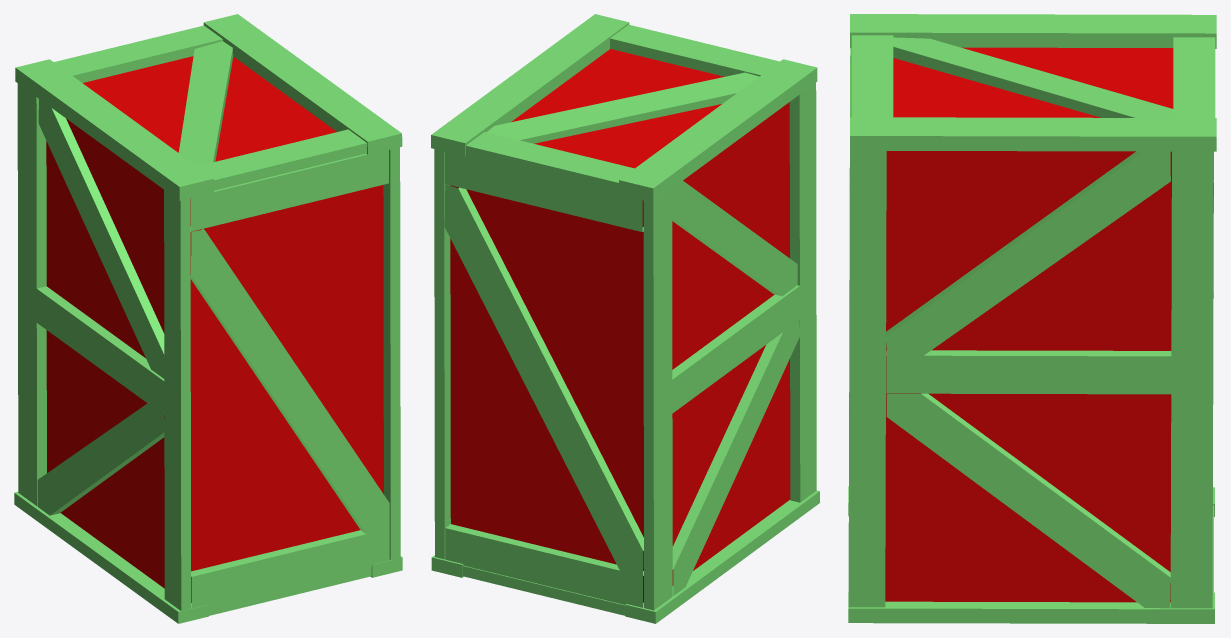
File: Wooden_Box_Big.fbx
3 views of the same model, side by side, from view 1: azimuth 30°, elevation 25°; view 2: azimuth 150°, elevation 25°; view 3: azimuth 270°, elevation 25° (orthographic). The views are drawn at different scales.
Parts seen in each view (by area): view 1: Box5; view 2: Box5; view 3: Box5.
Boxes of the visible parts, box(x1,y1,x2,y2) form: Box5: box(14, 14, 402, 623); Box5: box(431, 14, 819, 623); Box5: box(848, 14, 1216, 623).
Bounding box in the file's own units: 2.29 × 4.27 × 2.91.
